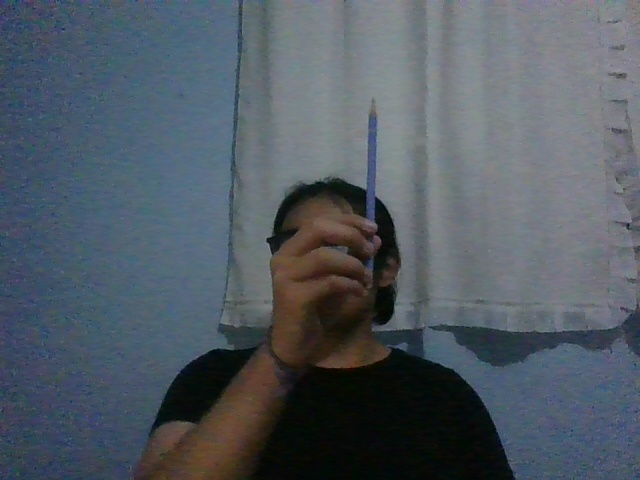lapiz: (364, 98, 378, 271)
